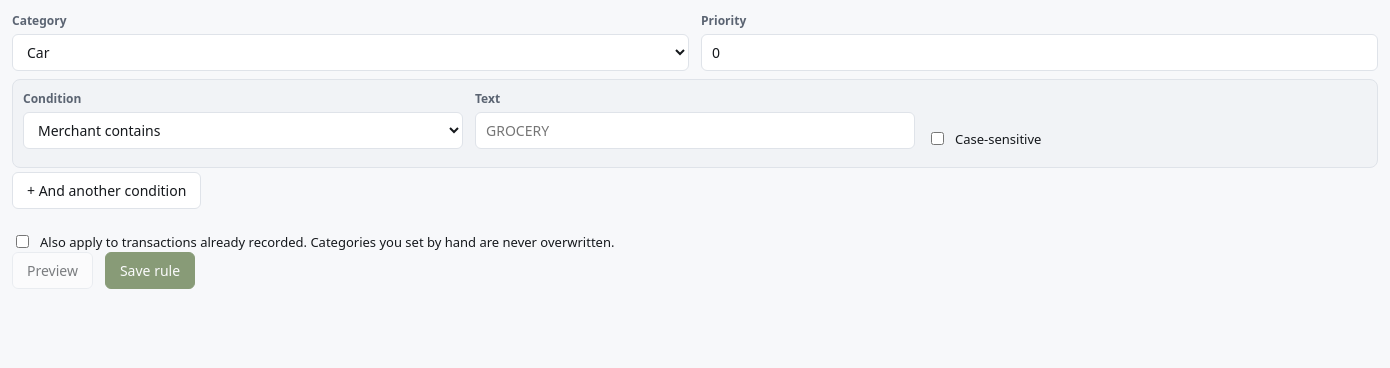
Test: checking in the browser › refuses a fifth decimal place and a maximum under the minimum, each on its own field
The width and height of the screenshot is (1390, 368).
Select "Amount is in a range" in the dropdown labelled "Condition" at (243,130), box [23,112,463,149]
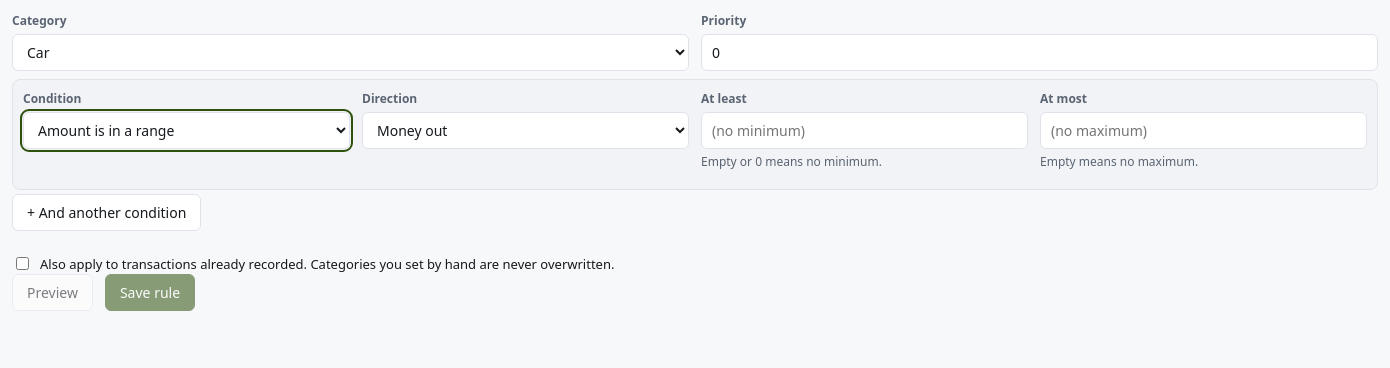
Type "20.12345" into the field labelled "At least" at (864,130), box [701,112,1028,149]
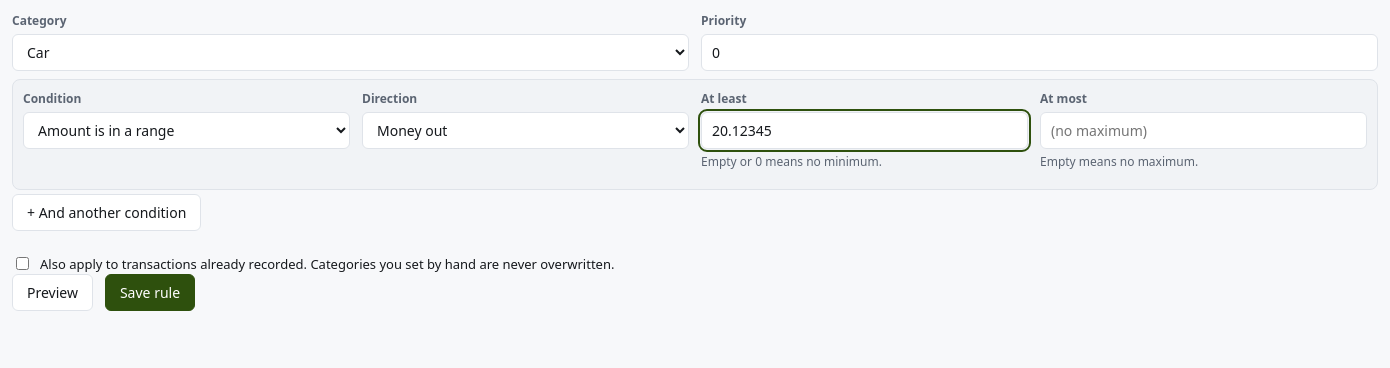
Type "10" into the field labelled "At most" at (1204,130), box [1040,112,1367,149]
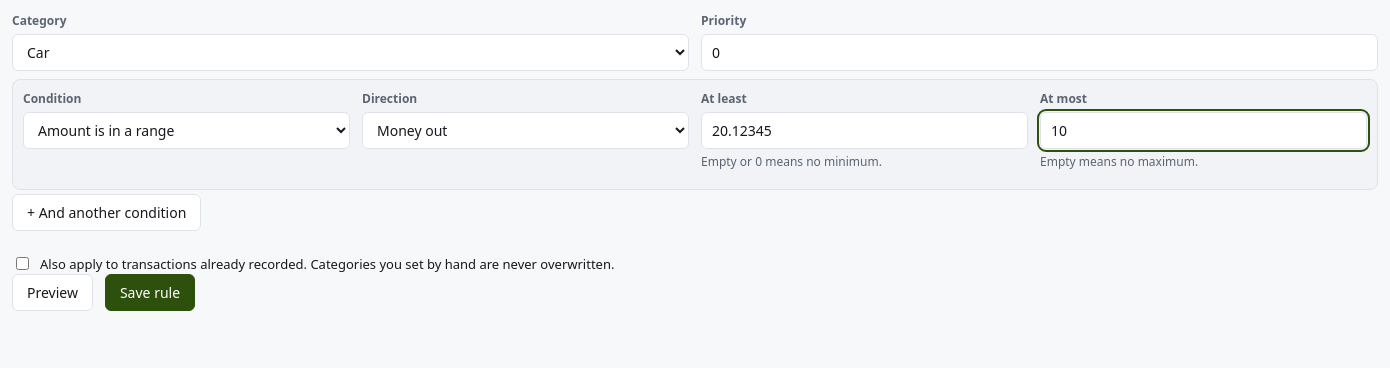
Click the button "Preview" at (52,292), box [12,274,93,311]
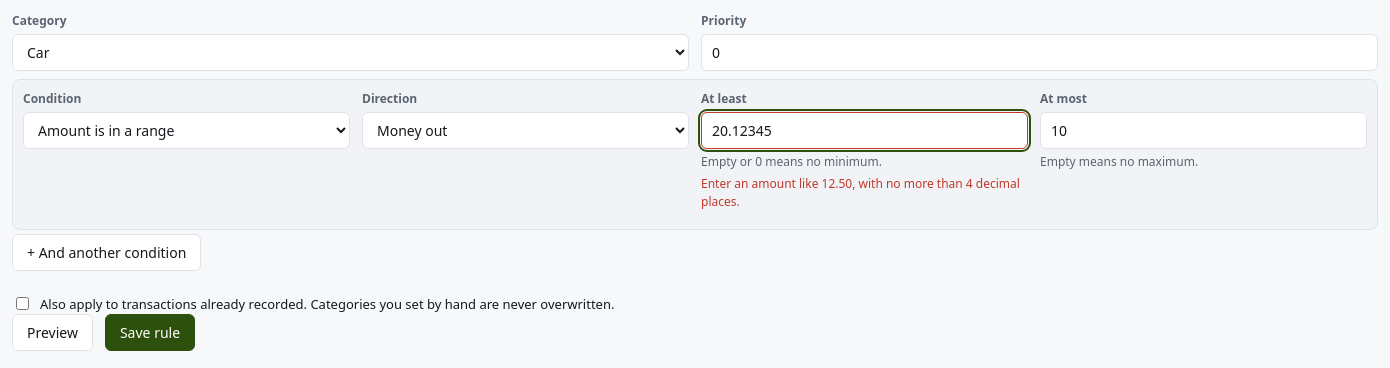
Replace the text in the field labelled "At least" with "20" at (864,130), box [701,112,1028,149]
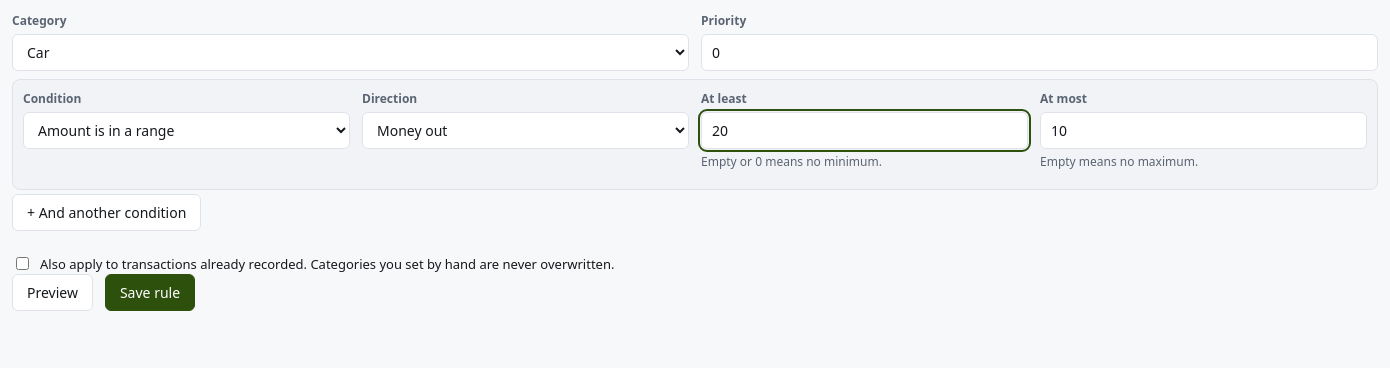
Click the button "Preview" at (52,292), box [12,274,93,311]
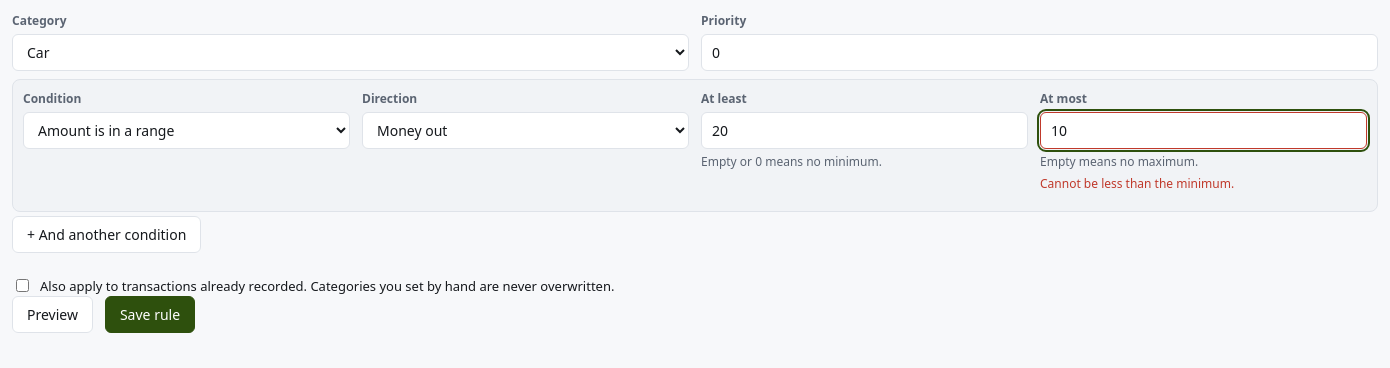
Expected: the text "Cannot be less than the minimum." is shown, [1040,175,1234,192]
